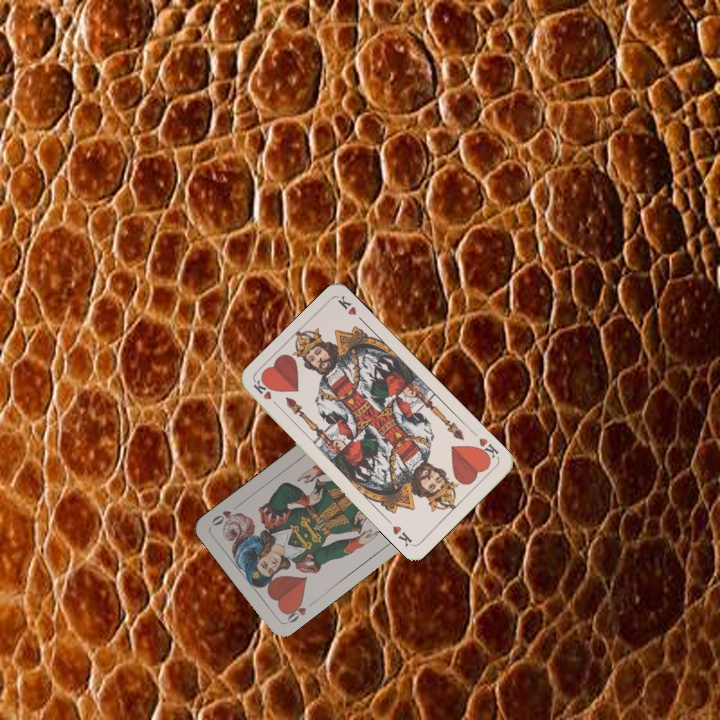HK: (249, 376, 283, 411), (472, 434, 501, 464)
HO: (280, 596, 309, 626)
